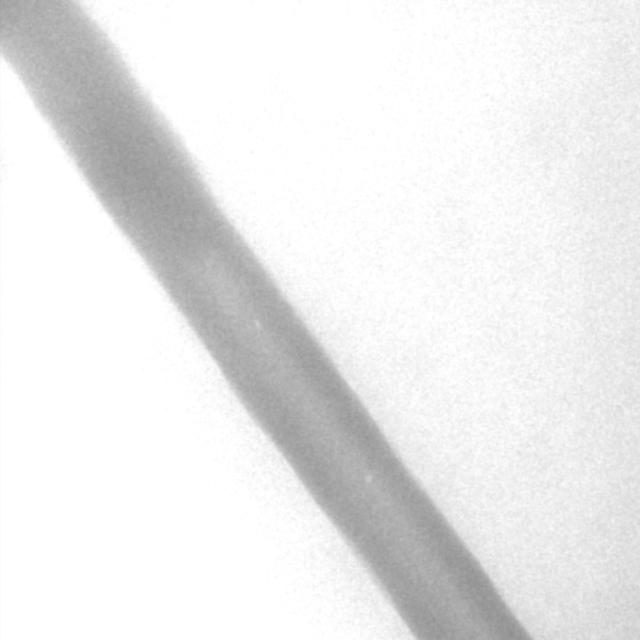air-hole: (253, 314, 263, 334), (366, 471, 373, 484)
